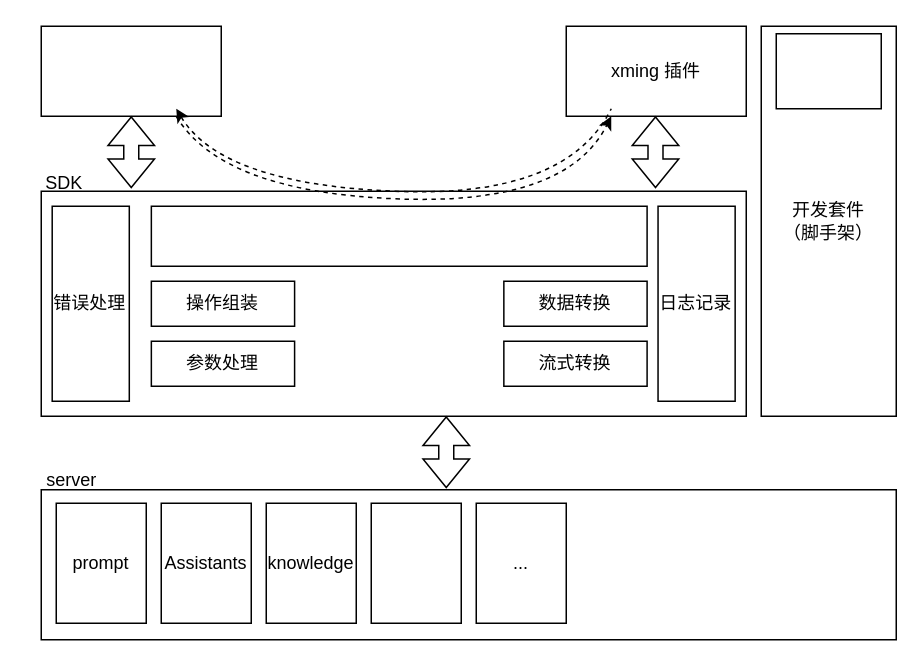
The diagram is 923 pixels wide and 666 high, and some of its shapes have lost their labels. The shapes that lost their labels are listed below. From the top down, each one's centre as x and y in pixels, then its label:
pixel 130 70: page
pixel 828 70: dev xming
pixel 398 235: 数据校验
pixel 415 562: s3
